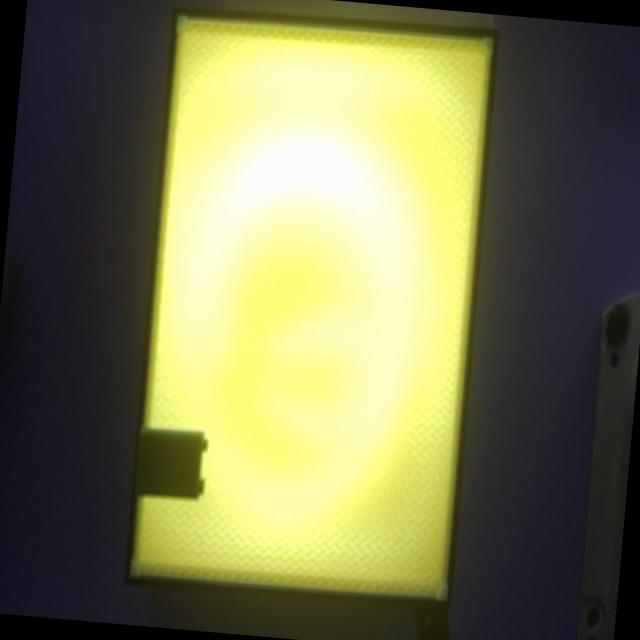bateria: (135, 428, 207, 499)
mesa: (124, 7, 498, 611)
